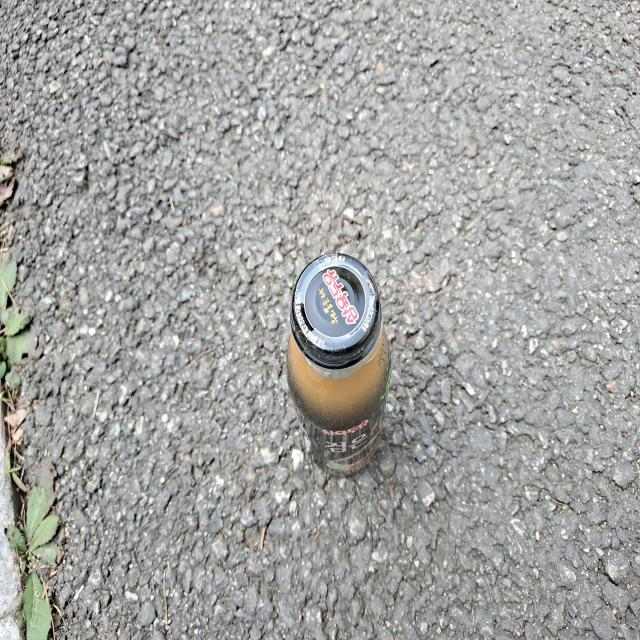glass: (287, 253, 391, 474)
